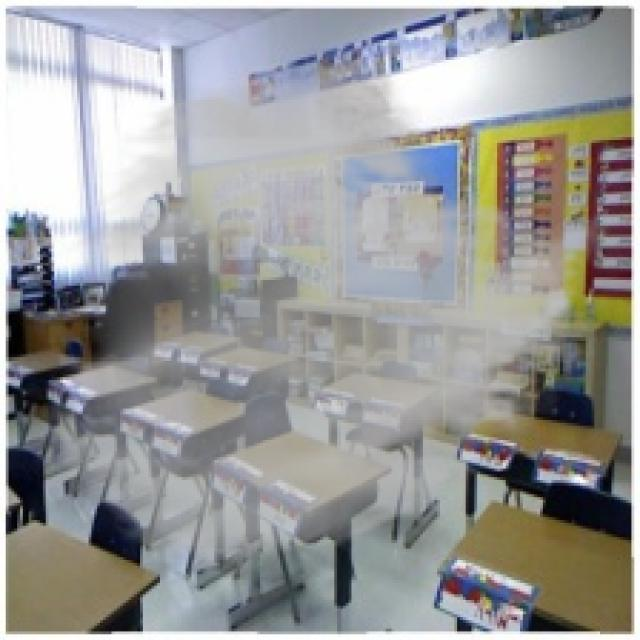smoke: (46, 54, 611, 574)
